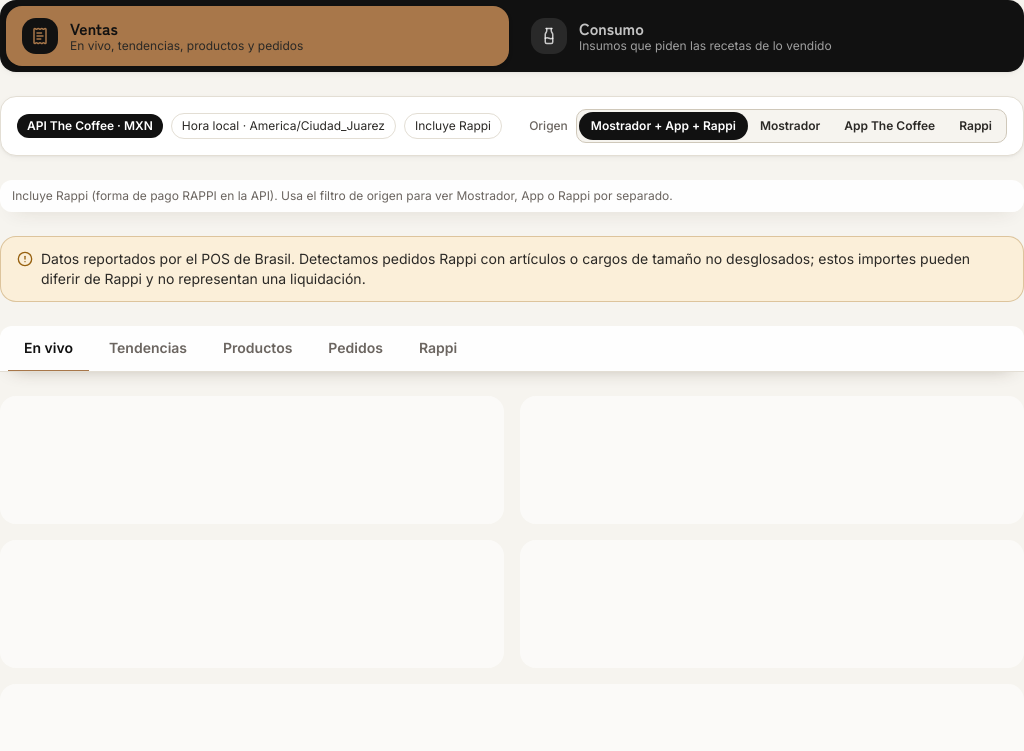
Scenario: En vivo › cambiar el origen descarta los datos anteriores y una respuesta tardía no los repone
Click the radio button labelled "App The Coffee" at (890, 126), box [844, 118, 935, 133]
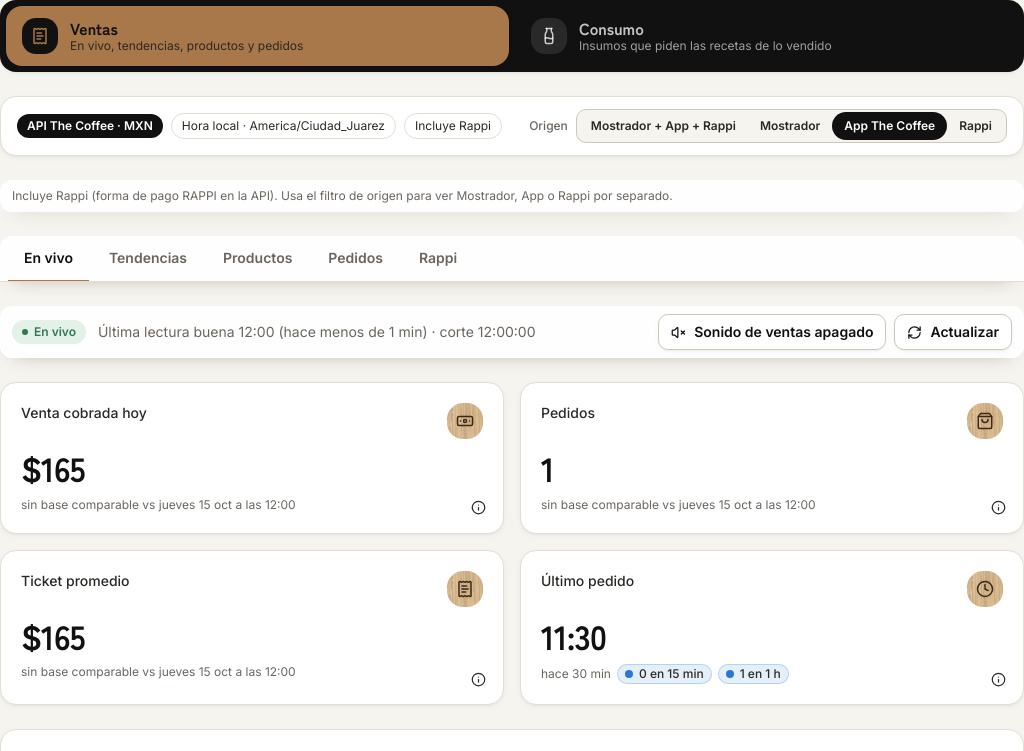
Check: the text "$165" below "Venta cobrada hoy" is shown, box [21, 443, 85, 492]
